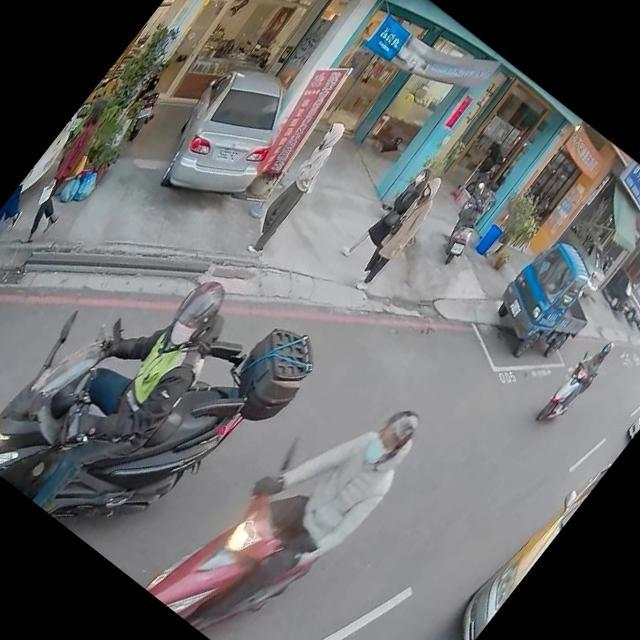person: (163, 358, 439, 640), (0, 238, 257, 536), (0, 88, 145, 258), (235, 114, 358, 259), (337, 154, 452, 284), (346, 170, 451, 294), (540, 331, 621, 425)
